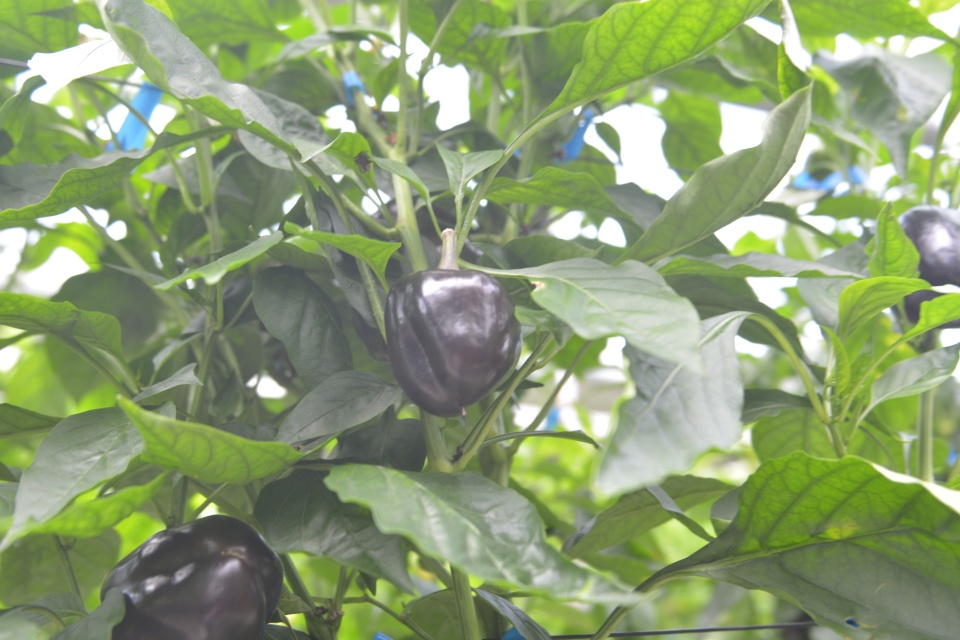fruit: (97, 512, 287, 640), (381, 264, 524, 420), (892, 202, 960, 331)
